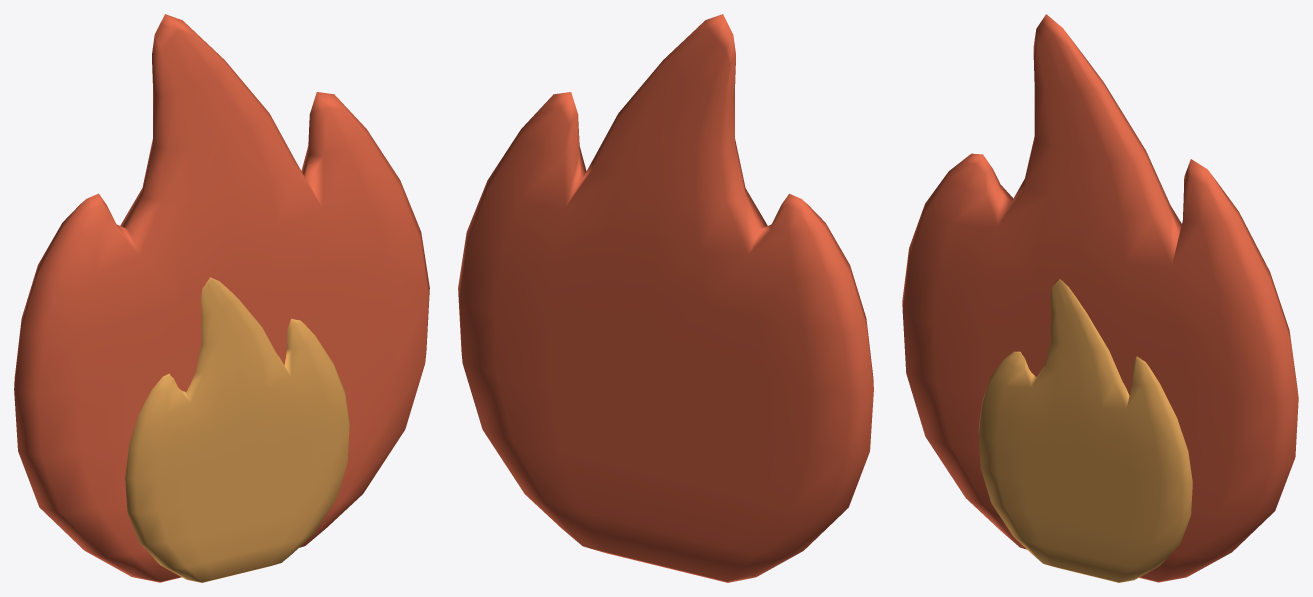
Rendered from Fire.fbx.
3 renders of one model, left to right at view 1: azimuth 30°, elevation 25°; view 2: azimuth 150°, elevation 25°; view 3: azimuth 330°, elevation 25°, orthographic. The views are drawn at different scales.
Parts seen in each view (by area): view 1: FIre_body_geo, FIre_inside_geo; view 2: FIre_body_geo; view 3: FIre_body_geo, FIre_inside_geo.
Boxes of the visible parts, x1,y1,x2,y2 form: FIre_body_geo: (14, 14, 429, 582); FIre_inside_geo: (125, 277, 349, 582); FIre_body_geo: (458, 14, 873, 582); FIre_body_geo: (902, 14, 1298, 582); FIre_inside_geo: (978, 279, 1192, 582).
Size of the model in its own units: 4.11 by 5.36 by 0.652.
